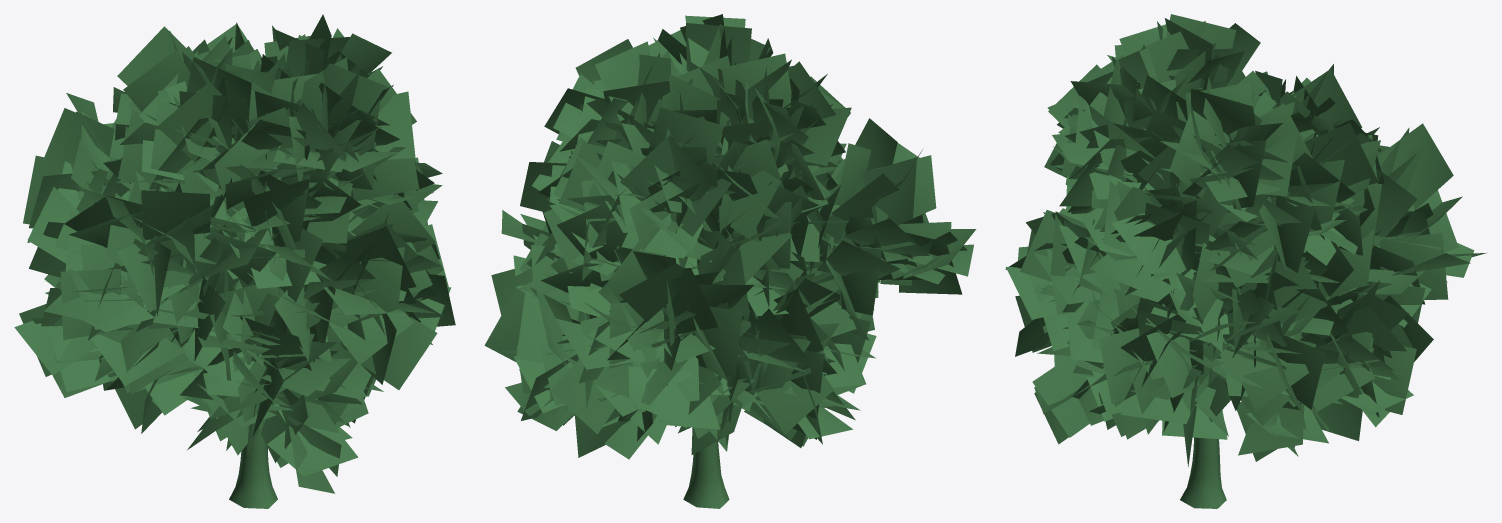
The model's file is Tree_10.fbx.
3 views of the same model, side by side, from view 1: azimuth 30°, elevation 25°; view 2: azimuth 150°, elevation 25°; view 3: azimuth 270°, elevation 25° (orthographic). The views are drawn at different scales.
Visible parts, largest first — view 1: Tree_10_1; view 2: Tree_10_1; view 3: Tree_10_1.
Boxes of the visible parts, box(x1,y1,x2,y2) form: Tree_10_1: box(14, 14, 455, 508); Tree_10_1: box(484, 14, 976, 508); Tree_10_1: box(1005, 14, 1487, 508).
Size of the model in its own units: 317 by 324 by 312.
